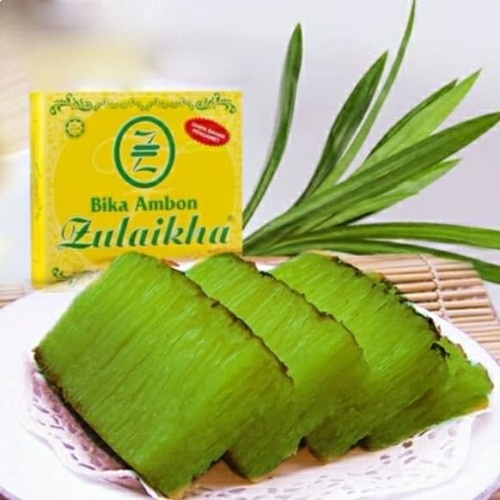bika_ambon: (34, 252, 248, 489)
